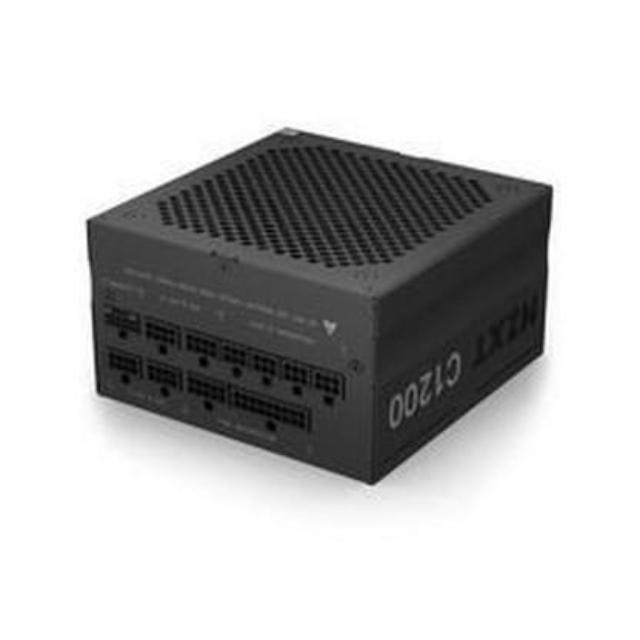PSU: (72, 118, 564, 498)
